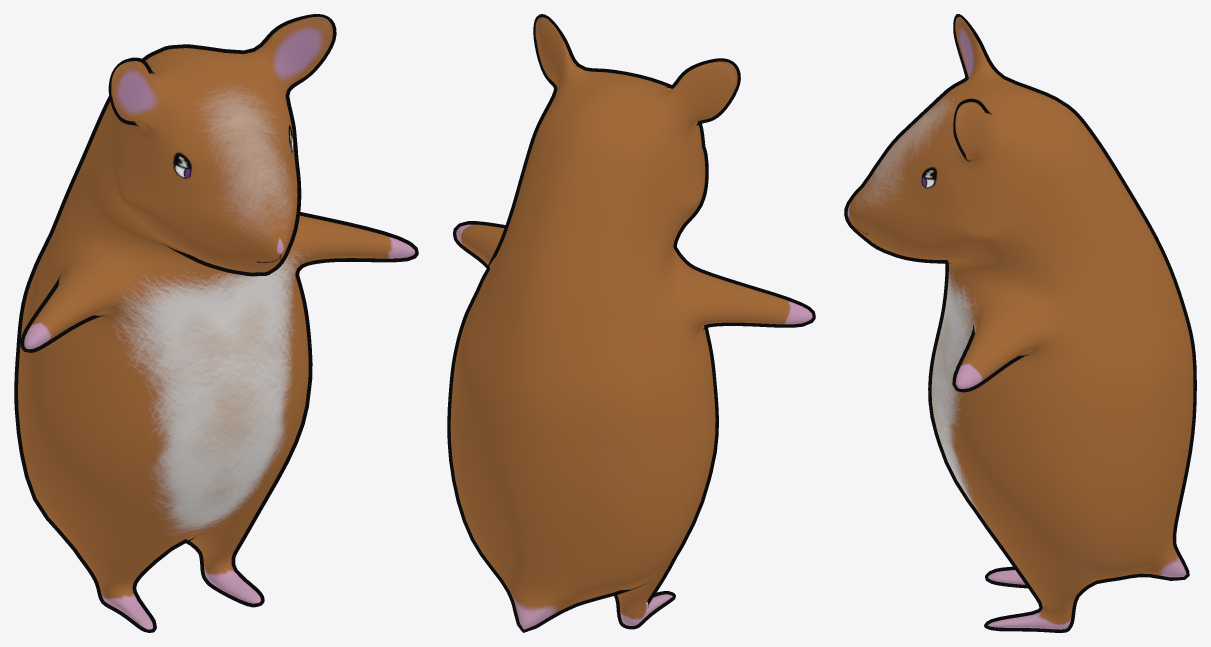
File: hamster.glb
The picture shows the model from 3 angles, left to right: view 1: azimuth 30°, elevation 25°; view 2: azimuth 150°, elevation 25°; view 3: azimuth 270°, elevation 25°; orthographic projection. The views are drawn at different scales.
Visible parts, largest first — view 1: Cube; view 2: Cube; view 3: Cube.
Boxes of the visible parts, x1,y1,x2,y2 form: Cube: [14, 14, 418, 632]; Cube: [447, 14, 815, 632]; Cube: [844, 14, 1196, 632].
Bounding box in the file's own units: 1.06 × 1.52 × 0.8854.
2 materials, 2 textured.
